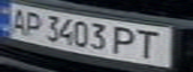0: (72, 19, 90, 49)
3: (87, 20, 112, 53), (39, 12, 63, 43)
4: (54, 16, 75, 46)
A: (3, 6, 30, 34)
P: (112, 24, 142, 56), (18, 9, 45, 38)
T: (130, 27, 172, 61)
